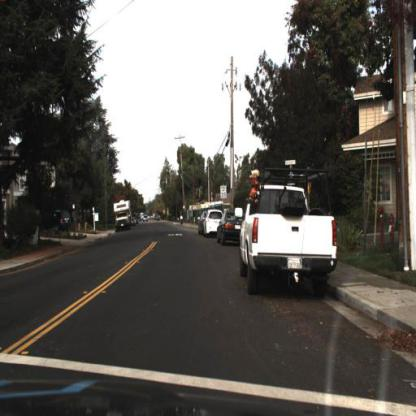car: (240, 168, 347, 283), (214, 208, 243, 247), (43, 207, 72, 235), (202, 207, 219, 242)
truck: (113, 195, 133, 231)
